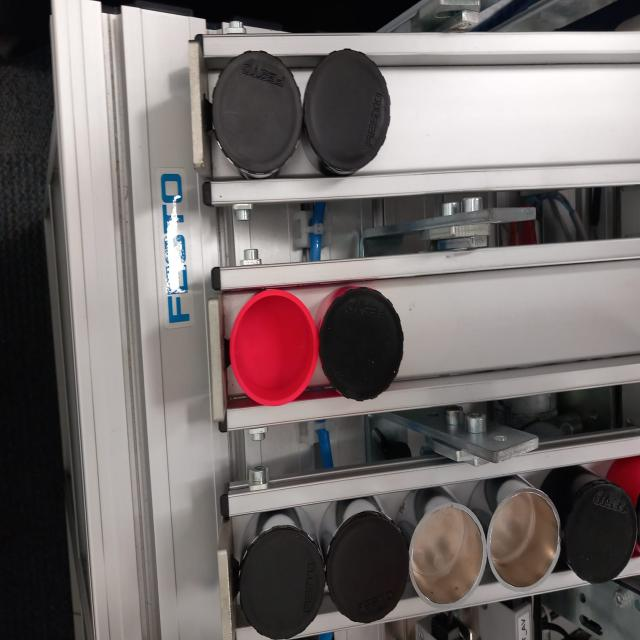NoLid: (222, 294, 319, 424), (487, 482, 568, 598), (401, 504, 487, 606)
Workpiece: (208, 58, 304, 194), (233, 504, 326, 638), (306, 56, 392, 180), (326, 495, 404, 630), (326, 286, 408, 408), (566, 476, 640, 586)
